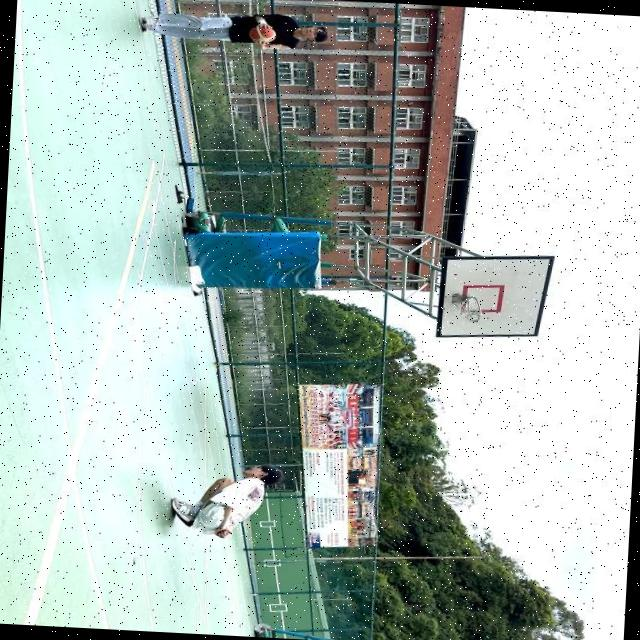ball: (247, 26, 276, 42)
hoop: (459, 292, 484, 332)
